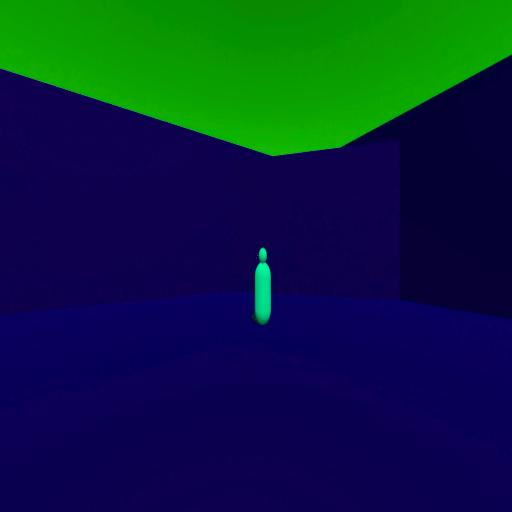Crosshair: (254, 252, 258, 260)
Target: (255, 248, 271, 324)
